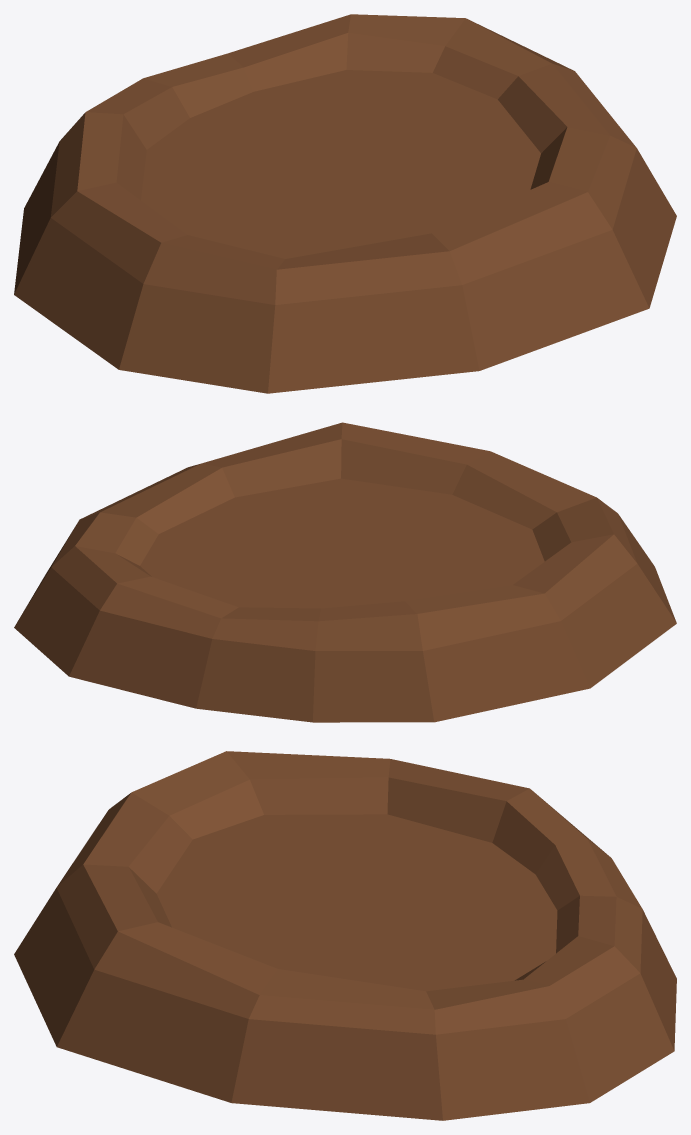
The model's file is Hole.fbx.
The picture shows the model from 3 angles, top to bottom: view 1: azimuth 30°, elevation 25°; view 2: azimuth 150°, elevation 25°; view 3: azimuth 270°, elevation 25°; orthographic projection. The views are drawn at different scales.
Parts seen in each view (by area): view 1: Hole; view 2: Hole; view 3: Hole.
Part boxes in pixels (x1,y1,x2,y2): Hole: [14, 14, 676, 393]; Hole: [14, 422, 676, 722]; Hole: [14, 751, 676, 1120].
Bounding box in the file's own units: 308 × 48.63 × 290.
